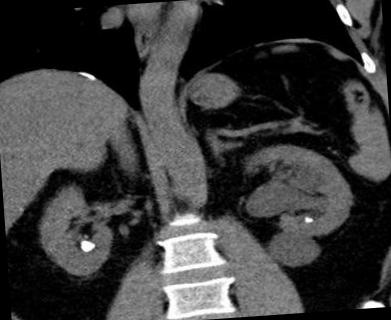Tas_Var: (73, 234, 100, 260), (299, 214, 319, 226)
